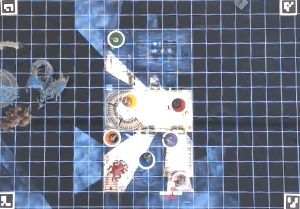green: (106, 27, 127, 49)
orange: (103, 128, 121, 148)
pink: (171, 168, 190, 190)
red: (169, 96, 188, 117)
violet: (138, 150, 157, 168), (162, 131, 180, 150)
yellow: (120, 91, 141, 111)
